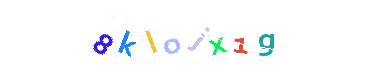1: (200, 0, 280, 80)
8: (63, 0, 143, 80)
G: (226, 0, 306, 80)
J: (145, 0, 225, 80)
K: (86, 0, 166, 80)
L: (113, 0, 193, 80)
O: (141, 0, 221, 80)
X: (177, 0, 257, 80)
